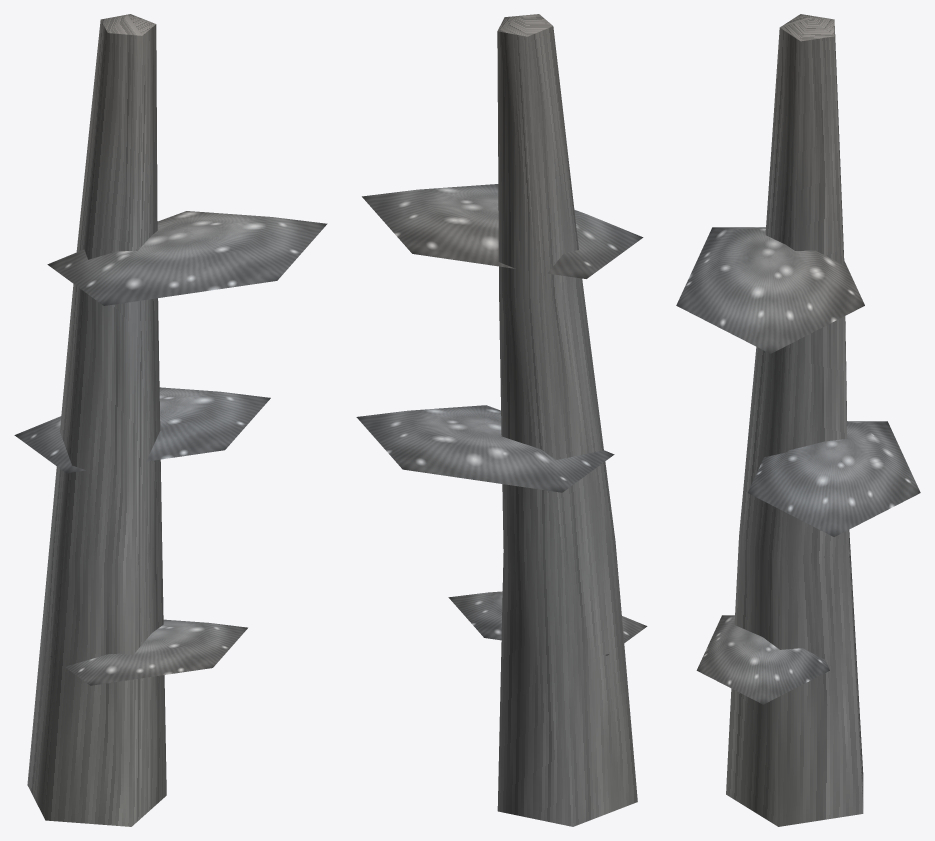
The model's file is shelf_tower_l2.gltf.
The picture shows the model from 3 angles, left to right: view 1: azimuth 30°, elevation 25°; view 2: azimuth 150°, elevation 25°; view 3: azimuth 270°, elevation 25°; orthographic projection. The views are drawn at different scales.
Visible parts, largest first — view 1: shelf_tower_l2; view 2: shelf_tower_l2; view 3: shelf_tower_l2.
Part boxes in pixels (x1,y1,x2,y2): shelf_tower_l2: (14, 14, 327, 826); shelf_tower_l2: (356, 14, 647, 826); shelf_tower_l2: (676, 14, 920, 826).
Bounding box in the file's own units: 1.53 × 4.06 × 1.13.
2 materials, 2 textured.
